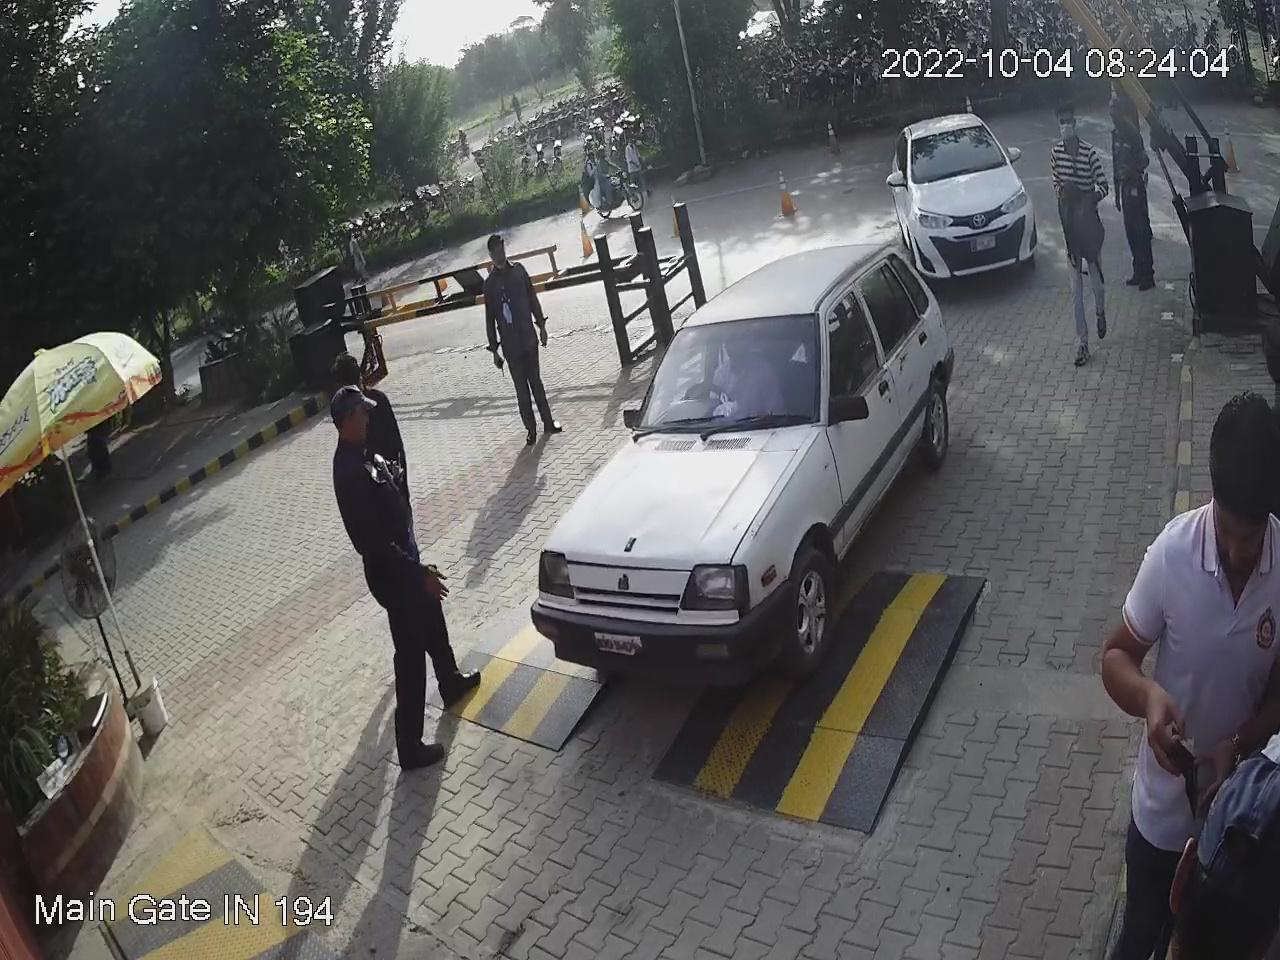windshield: (628, 310, 827, 428)
